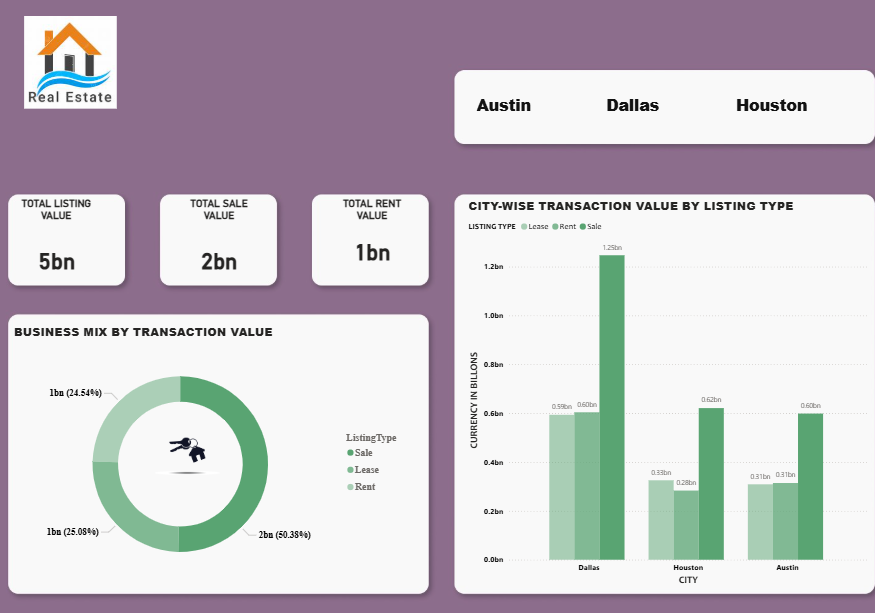

The dashboard page shown, as its layout file describes it:
{"tool":"powerbi","page":{"name":"TRANSACTION VALUE AND BUSINESS MIX","canvas":[1440,1024],"ordinal":6},"visuals":[{"type":"donutChart","title":"BUSINESS MIX BY TRANSACTION VALUE","fields":{"Category":["Properties.ListingType"],"Y":["Measure_Table.Total_Listing_Value"]},"box":[25,530,655,430],"z":0},{"type":"card","title":"TOTAL LISTING VALUE","fields":{"Values":["Measure_Table.Total_Listing_Value"]},"box":[30,325,137.5,160],"z":1000},{"type":"clusteredColumnChart","title":"CITY-WISE TRANSACTION VALUE BY LISTING TYPE","fields":{"Category":["Properties.City"],"Series":["Properties.ListingType"],"Y":["Measure_Table.Total_Listing_Value"]},"box":[762.5,325,657.5,635],"z":2000},{"type":"card","title":"TOTAL SALE VALUE","fields":{"Values":["Measure_Table.Total_Sale_Value"]},"box":[292.5,325,140,160],"z":3000},{"type":"card","title":"TOTAL RENT VALUE","fields":{"Values":["Measure_Table.Total_Rent_Value"]},"box":[540,325,145,132.5],"z":4000},{"type":"advancedSlicerVisual","fields":{"Values":["Properties.City"]},"box":[762.5,122.5,640,102.5],"z":5000},{"type":"image","box":[257.5,697.5,105,95],"z":6000},{"type":"image","box":[25.1,29.6,193.7,150.4],"z":7000}]}

Visuals, with their boxes in screenshot pixels (x1, y1, x2, y2), scaled from the page's 1440x1024 canvas onto the 875x613 screenshot:
"BUSINESS MIX BY TRANSACTION VALUE" donutChart: {"left": 15, "top": 317, "right": 413, "bottom": 575}
"TOTAL LISTING VALUE" card: {"left": 18, "top": 195, "right": 102, "bottom": 290}
"CITY-WISE TRANSACTION VALUE BY LISTING TYPE" clusteredColumnChart: {"left": 463, "top": 195, "right": 863, "bottom": 575}
"TOTAL SALE VALUE" card: {"left": 178, "top": 195, "right": 263, "bottom": 290}
"TOTAL RENT VALUE" card: {"left": 328, "top": 195, "right": 416, "bottom": 274}
advancedSlicerVisual - Properties.City: {"left": 463, "top": 73, "right": 852, "bottom": 135}
image: {"left": 156, "top": 418, "right": 220, "bottom": 474}
image: {"left": 15, "top": 18, "right": 133, "bottom": 108}
